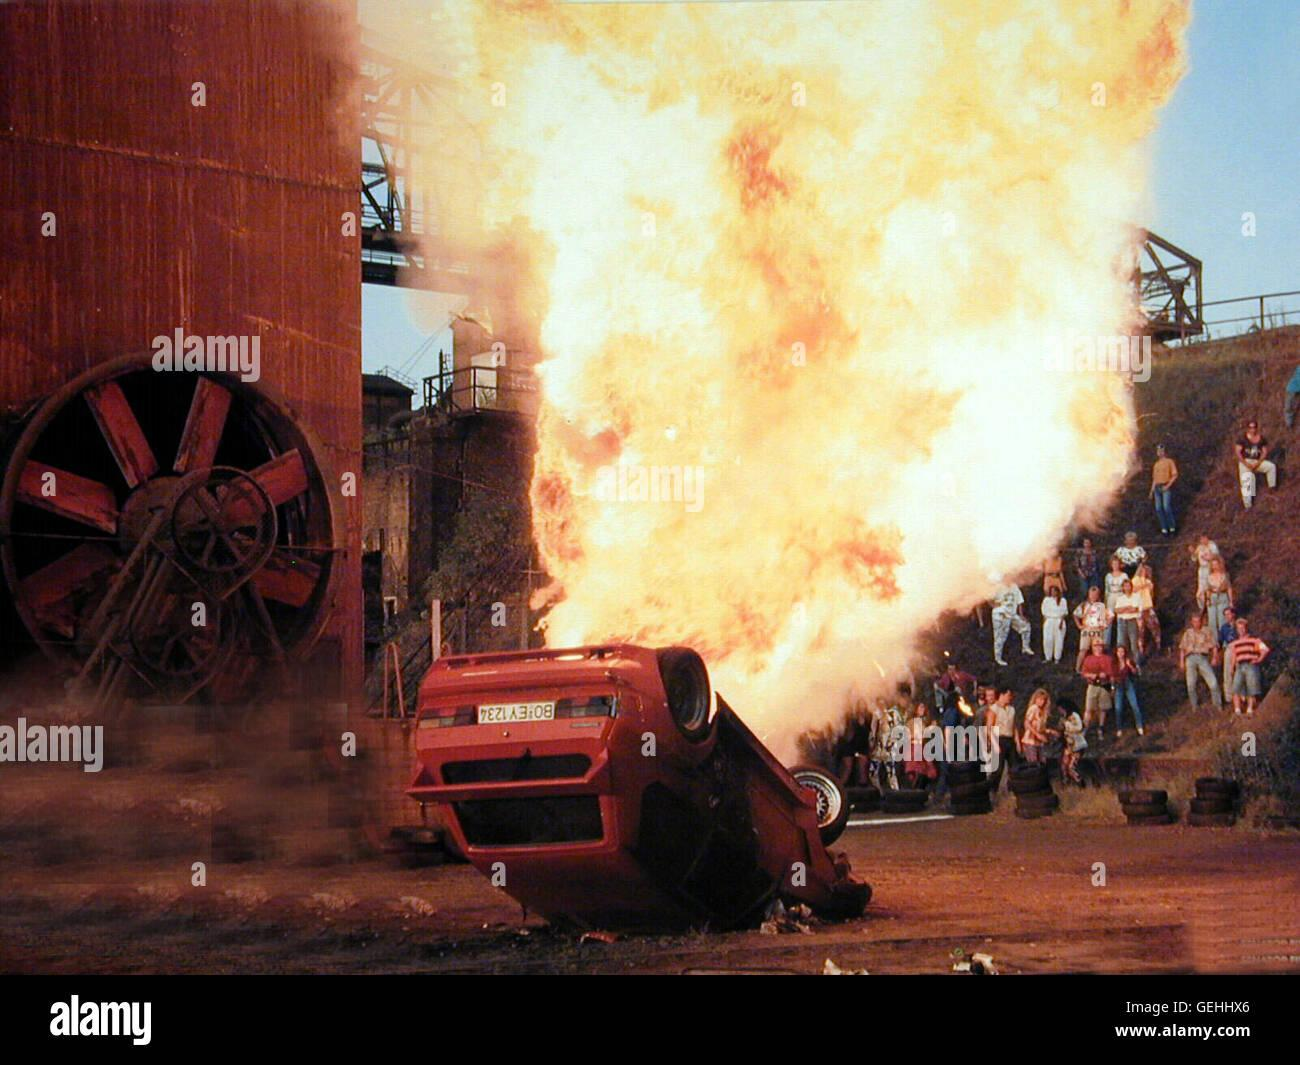fire: (334, 0, 1190, 757)
